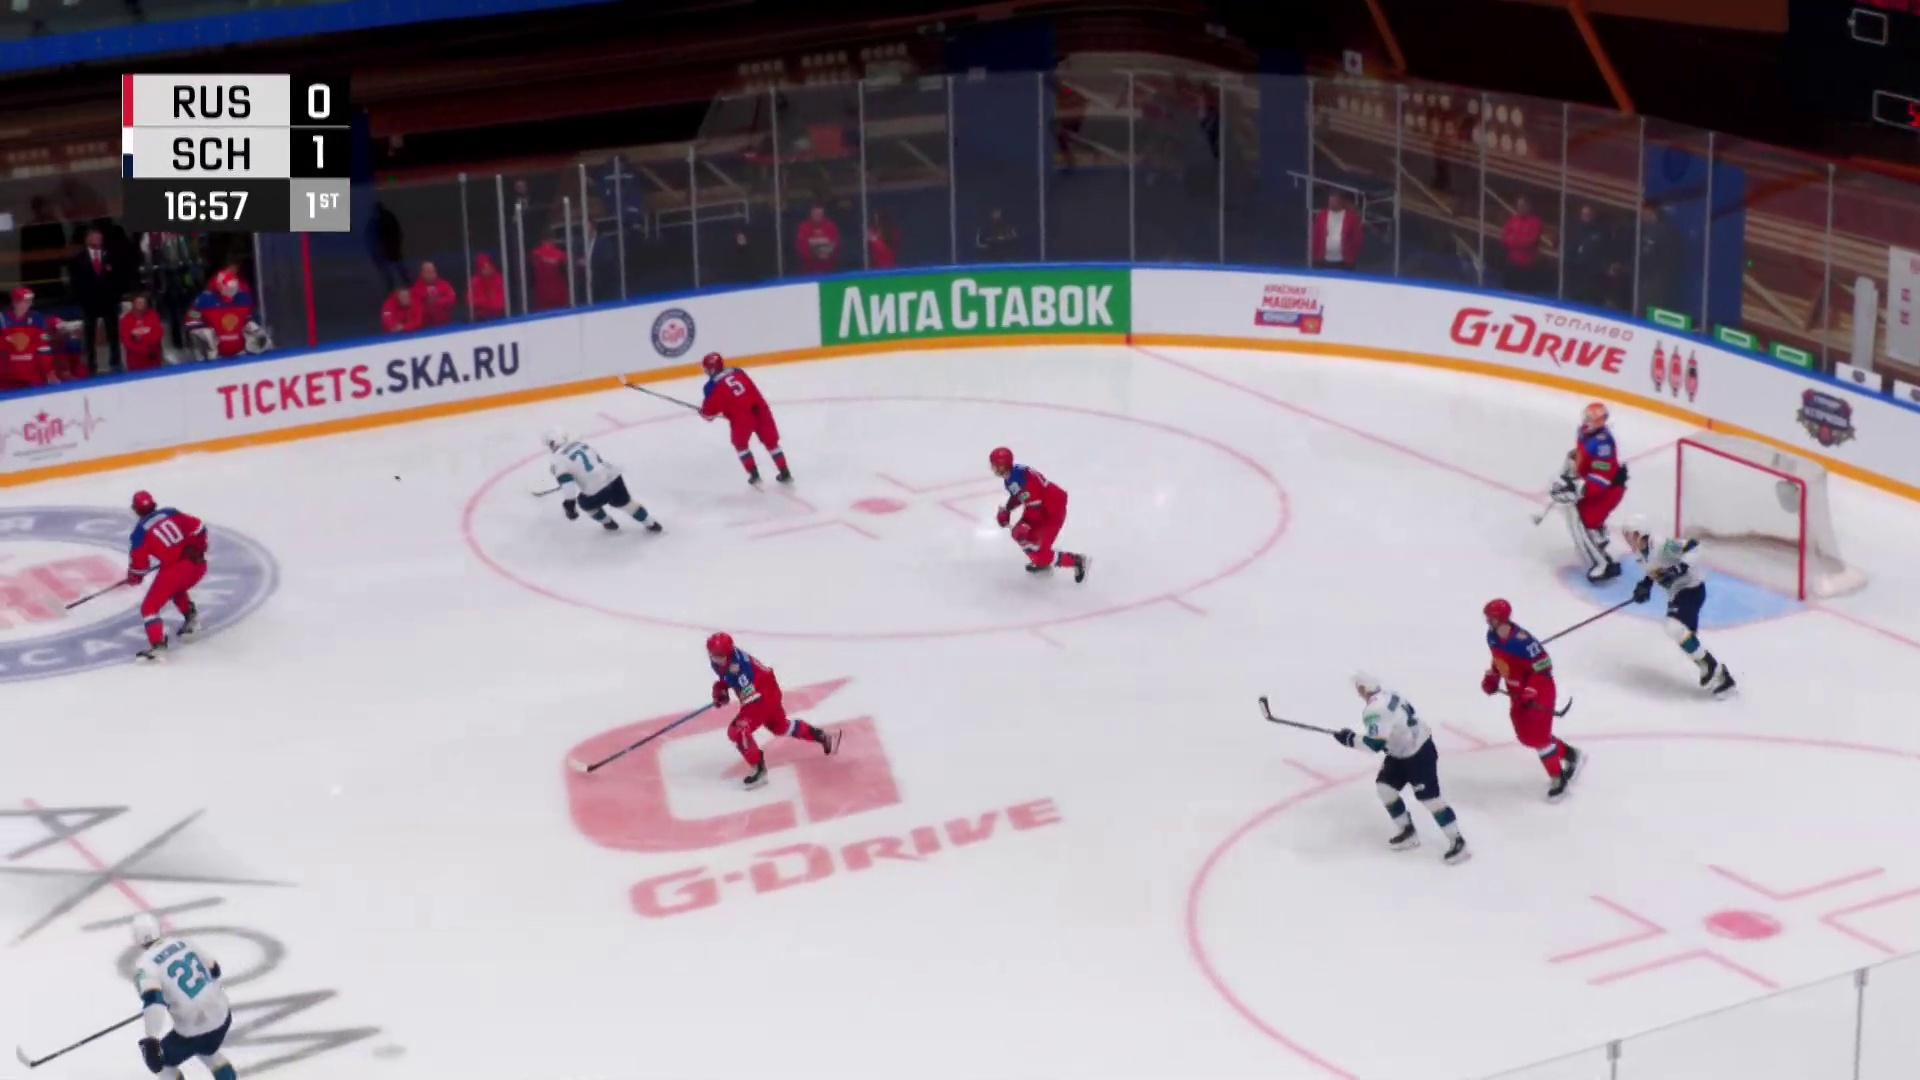ball: (394, 476, 401, 481)
